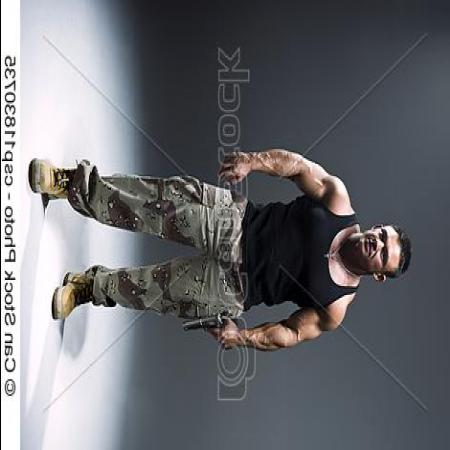Pistol: (181, 312, 228, 350)
